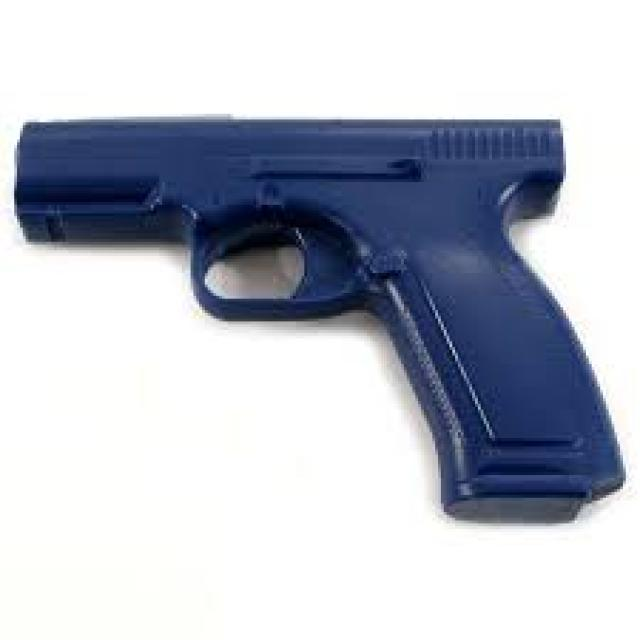Gun: (0, 56, 640, 526)
